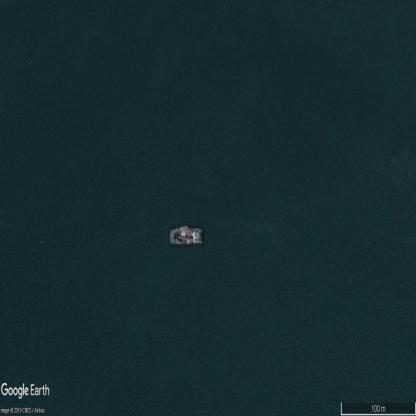ship: (169, 225, 204, 246)
